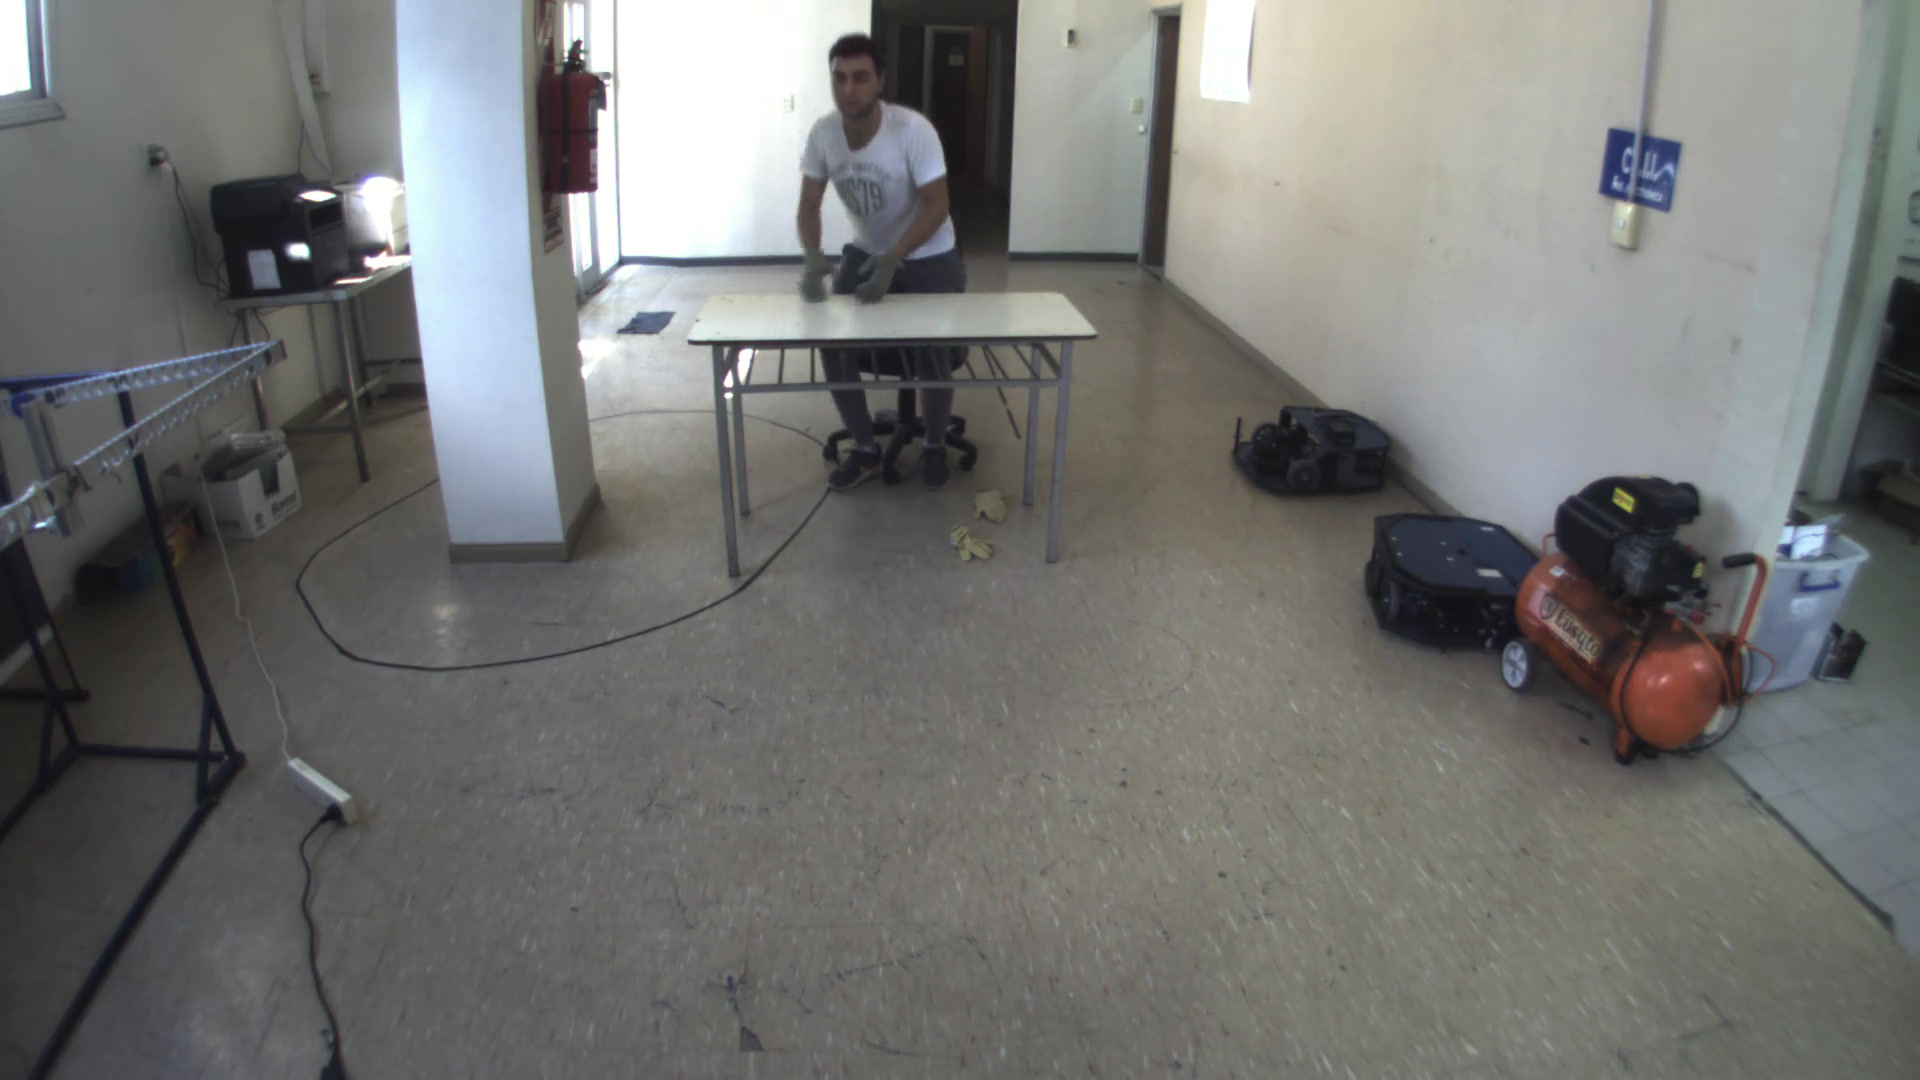hand: (832, 237, 901, 305), (787, 247, 843, 305)
